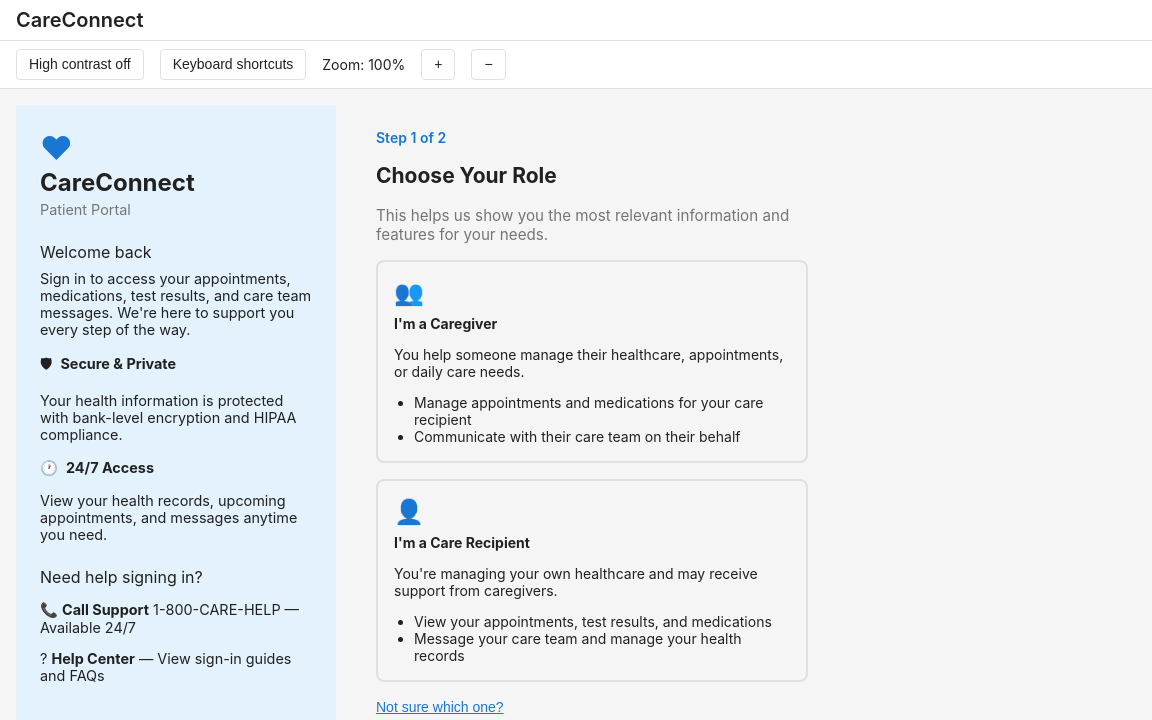
Test: Toolbar › toggling high contrast updates button text
The width and height of the screenshot is (1152, 720).
Click the button with aria-label "toggle high contrast": (80, 64) x1=16 y1=49 x2=144 y2=80
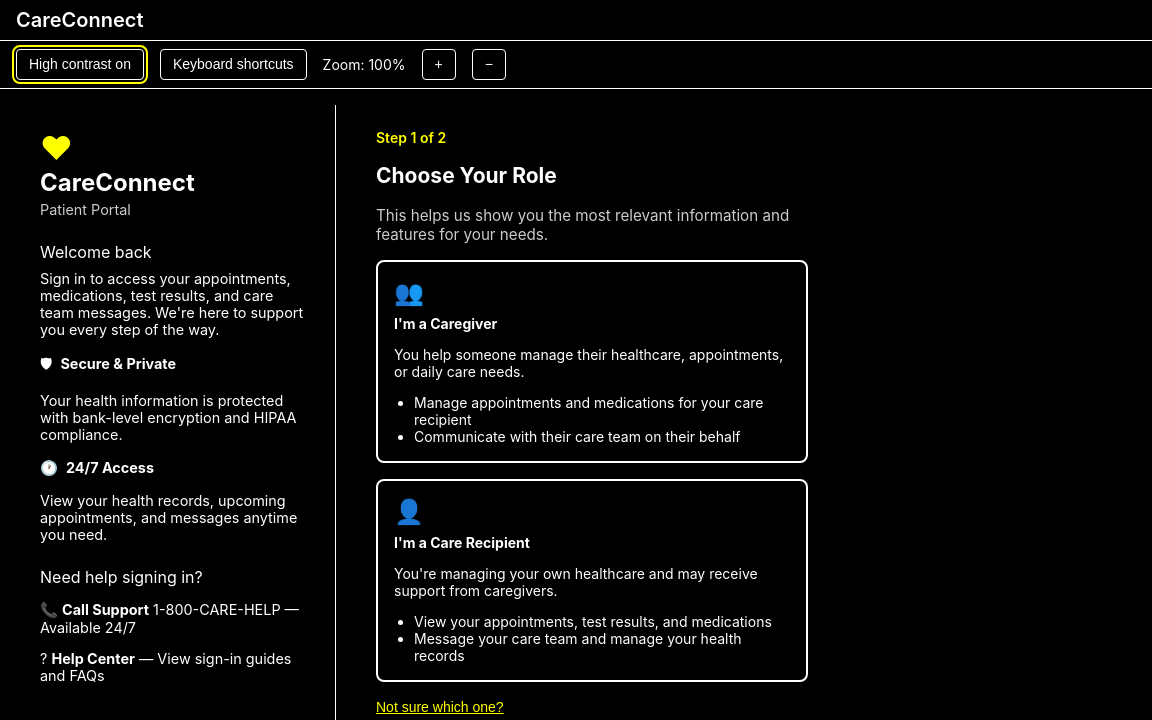
Now the button with aria-label "toggle high contrast" reads "High contrast on", box x1=16 y1=49 x2=144 y2=80
